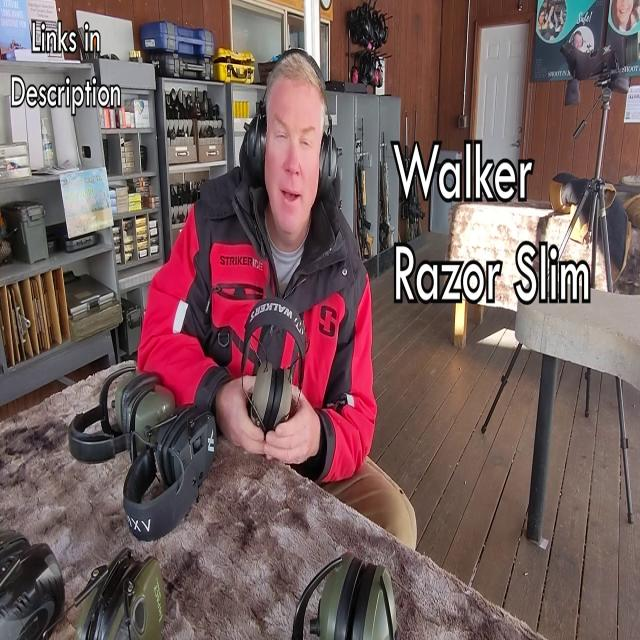earmuff: (240, 108, 268, 182), (315, 125, 345, 192)
